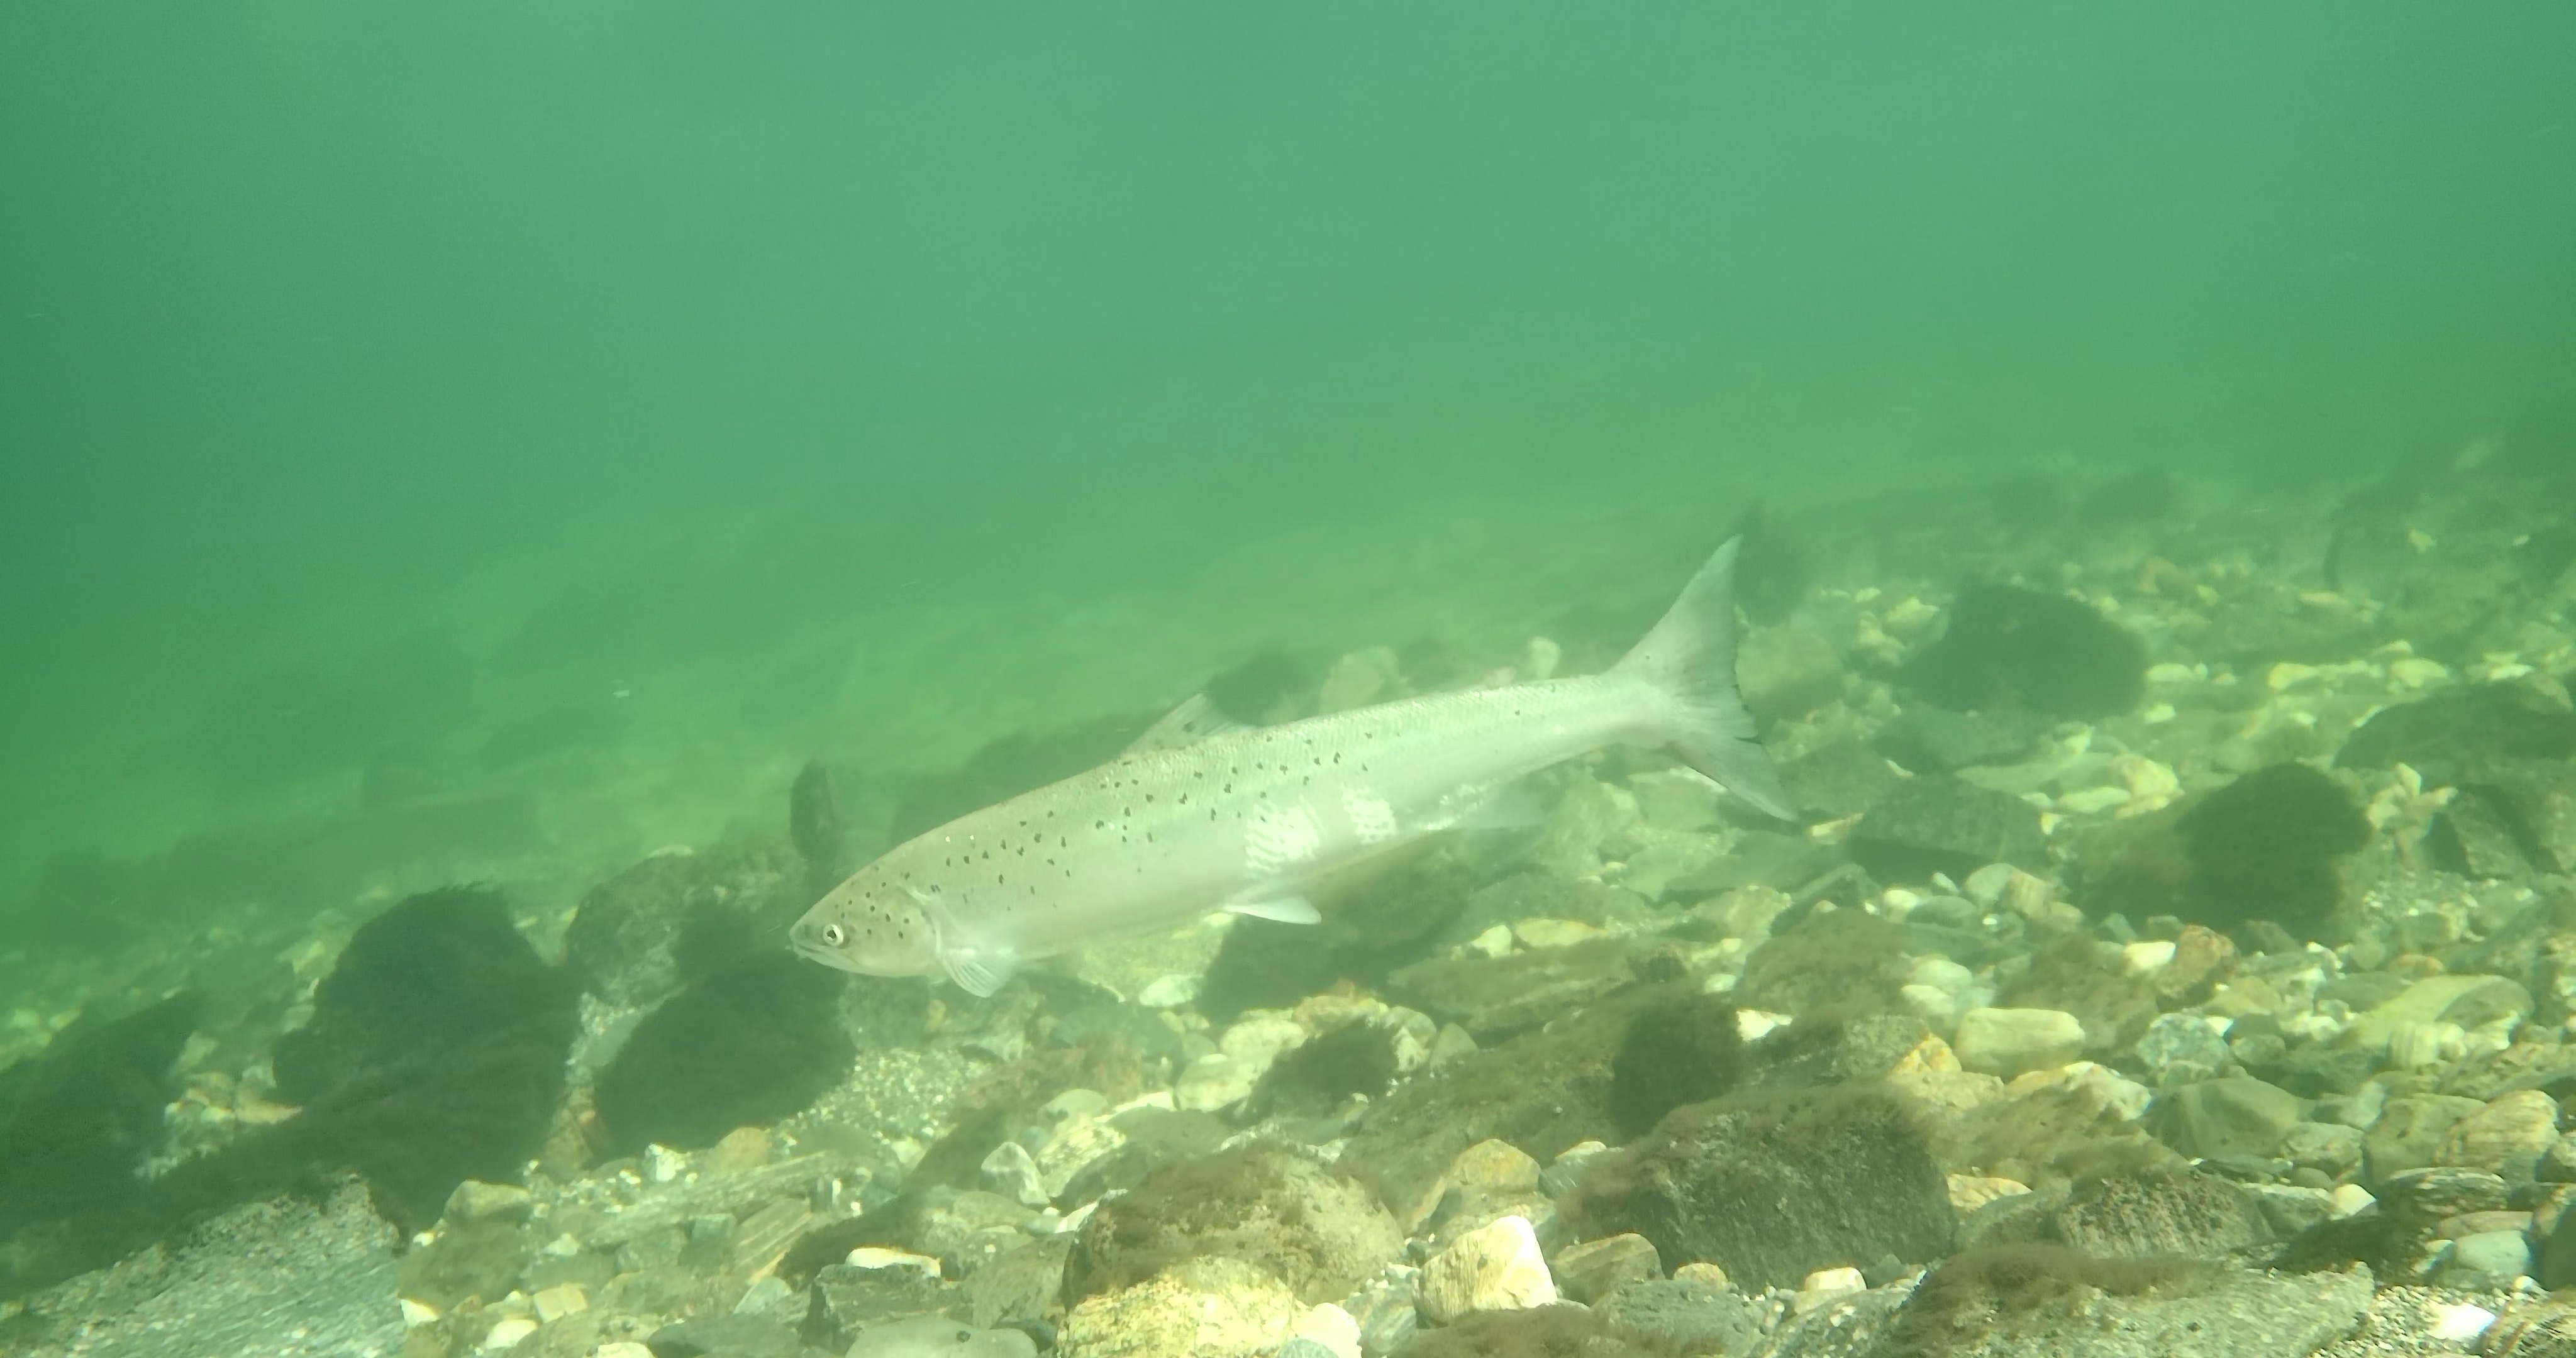salmon: (785, 530, 1804, 1002)
